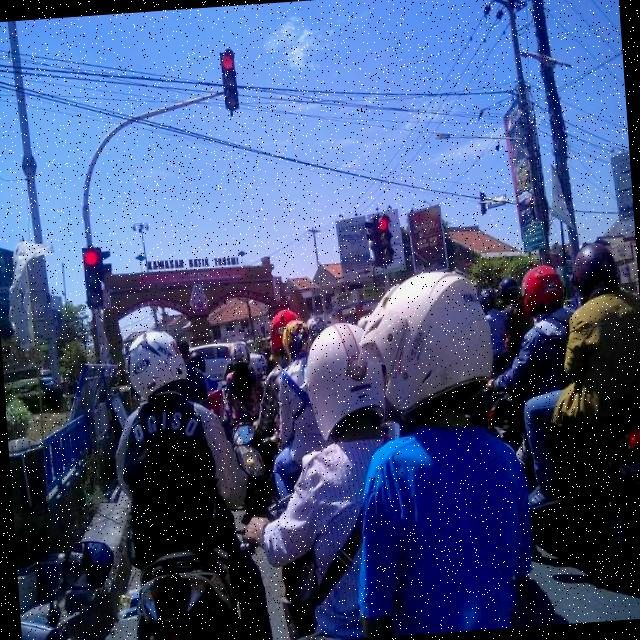Czerwone swiatlo: (218, 44, 242, 112), (80, 248, 102, 310), (374, 212, 392, 264)
